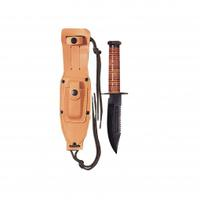knife: (97, 34, 136, 161)
